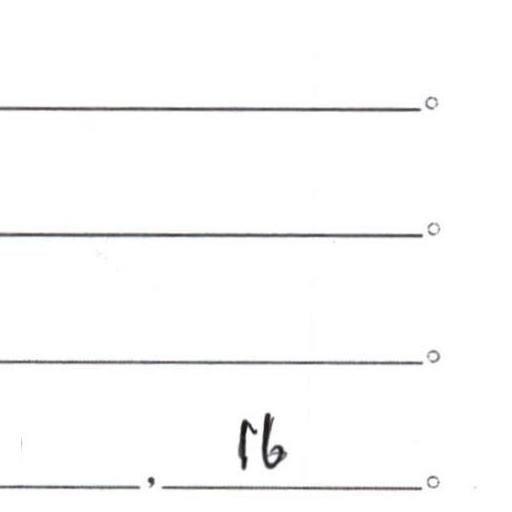ans: (231, 407, 288, 474)
